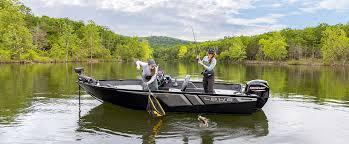fishing boat: (71, 47, 273, 115)
